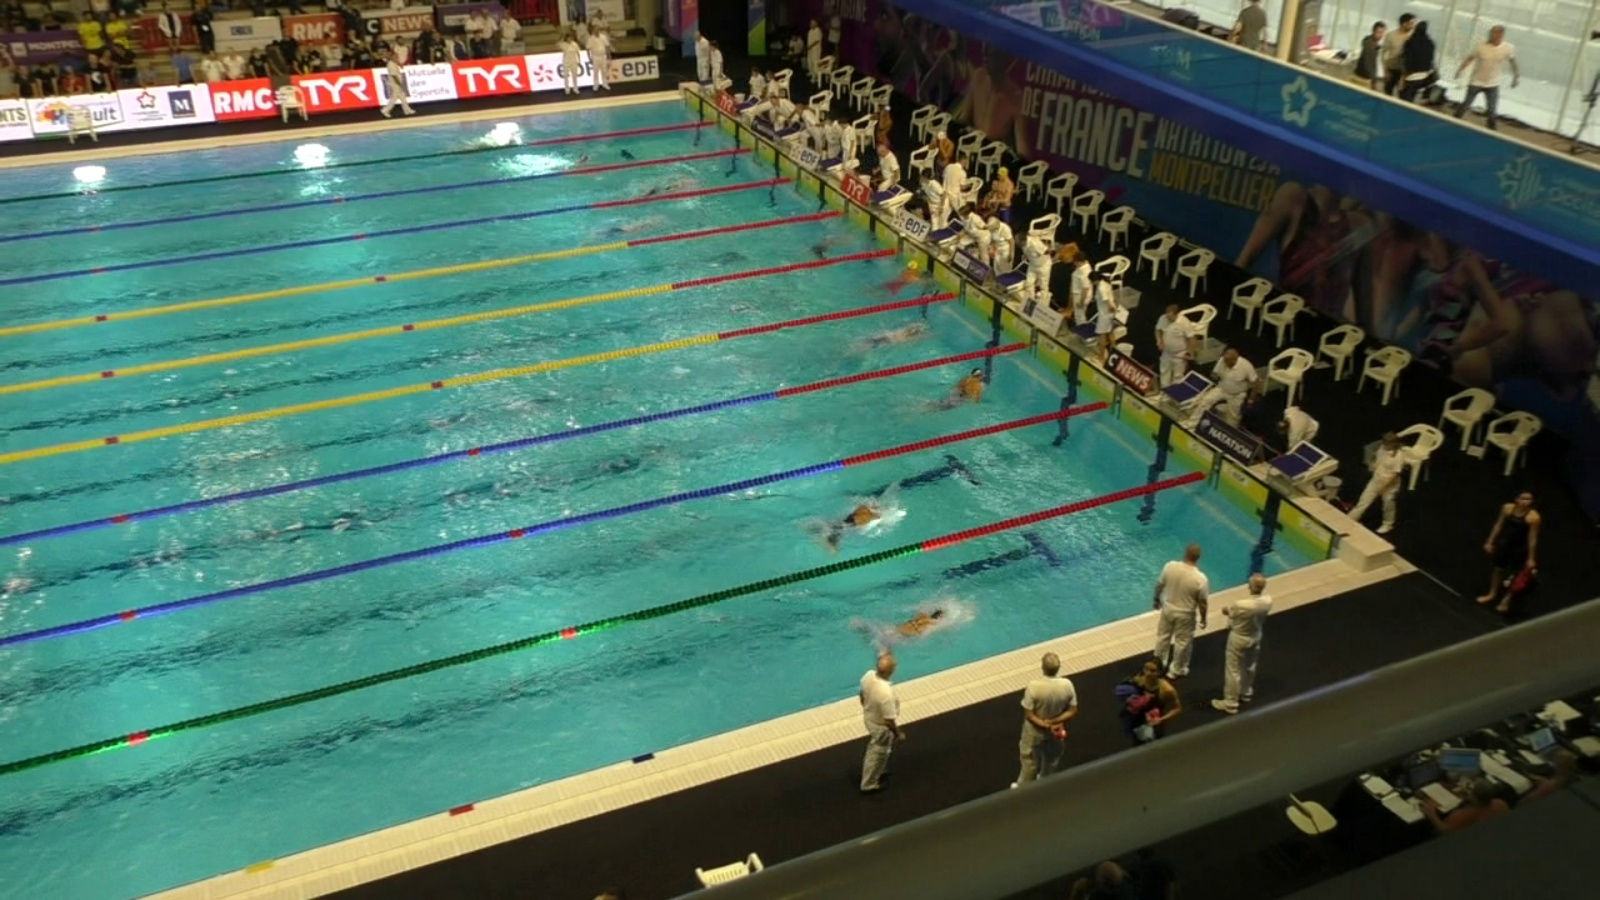swimmerwdd: (797, 492, 895, 552), (869, 596, 957, 651), (911, 364, 993, 420), (791, 216, 873, 269), (842, 316, 927, 357), (575, 213, 670, 249), (867, 255, 935, 303), (625, 173, 705, 205), (441, 127, 525, 153), (547, 155, 603, 175)
